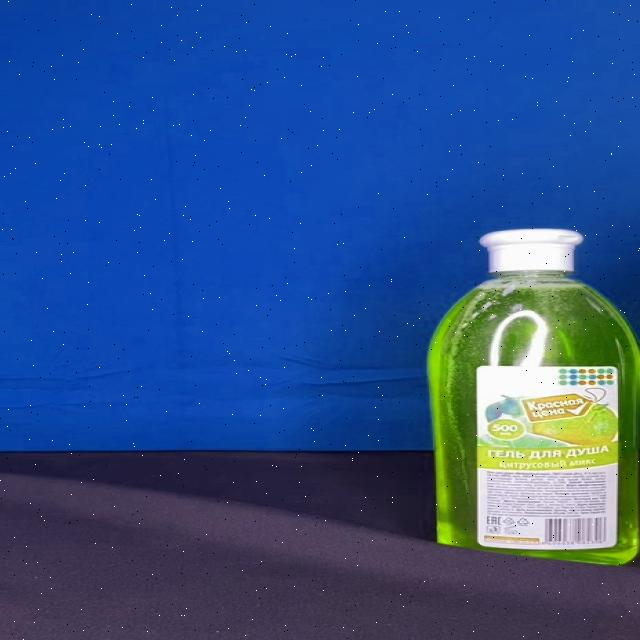Bottle: (427, 229, 640, 566)
Cap: (478, 230, 582, 272)
